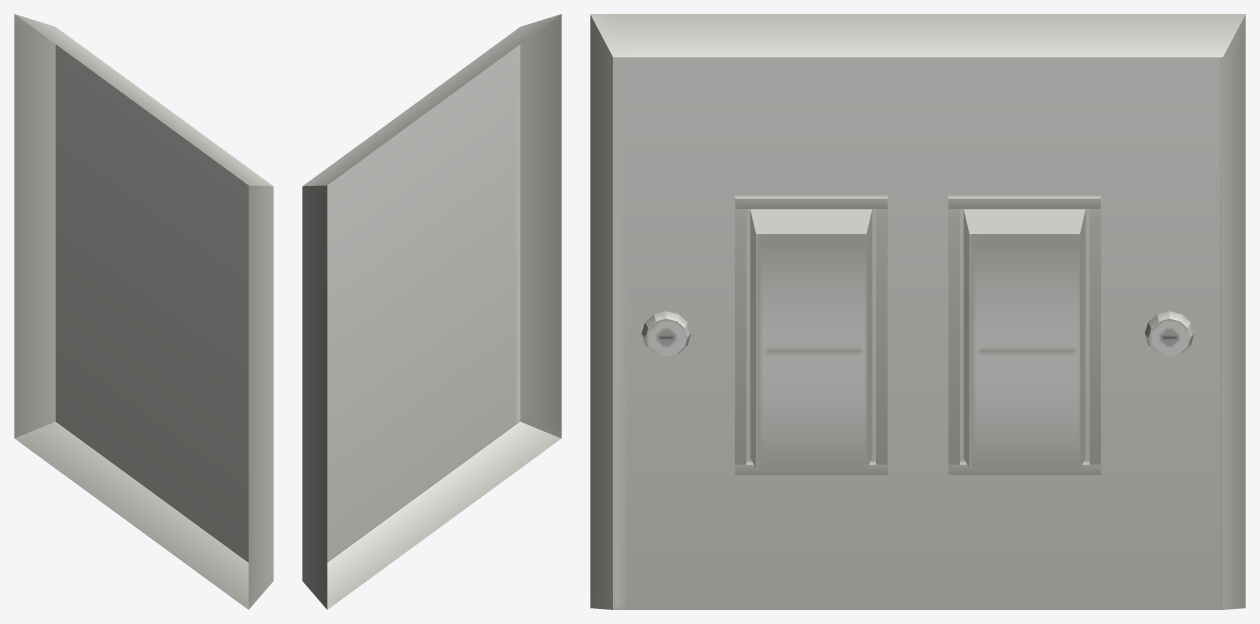
The model's file is ukdoubleswitch.obj.
The picture shows the model from 3 angles, left to right: view 1: azimuth 30°, elevation 25°; view 2: azimuth 150°, elevation 25°; view 3: azimuth 270°, elevation 25°; orthographic projection. The views are drawn at different scales.
Visible parts, largest first — view 1: main; view 2: main; view 3: main, rotLeft, rotRight.
Boxes of the visible parts, bbox=[...] form: main: bbox=[14, 14, 273, 609]; main: bbox=[302, 14, 561, 609]; main: bbox=[590, 14, 1245, 609]; rotLeft: bbox=[750, 209, 872, 468]; rotRight: bbox=[963, 209, 1085, 468].
Size of the model in its own units: 0.05 by 0.344 by 0.344.
1 material, 1 textured.
